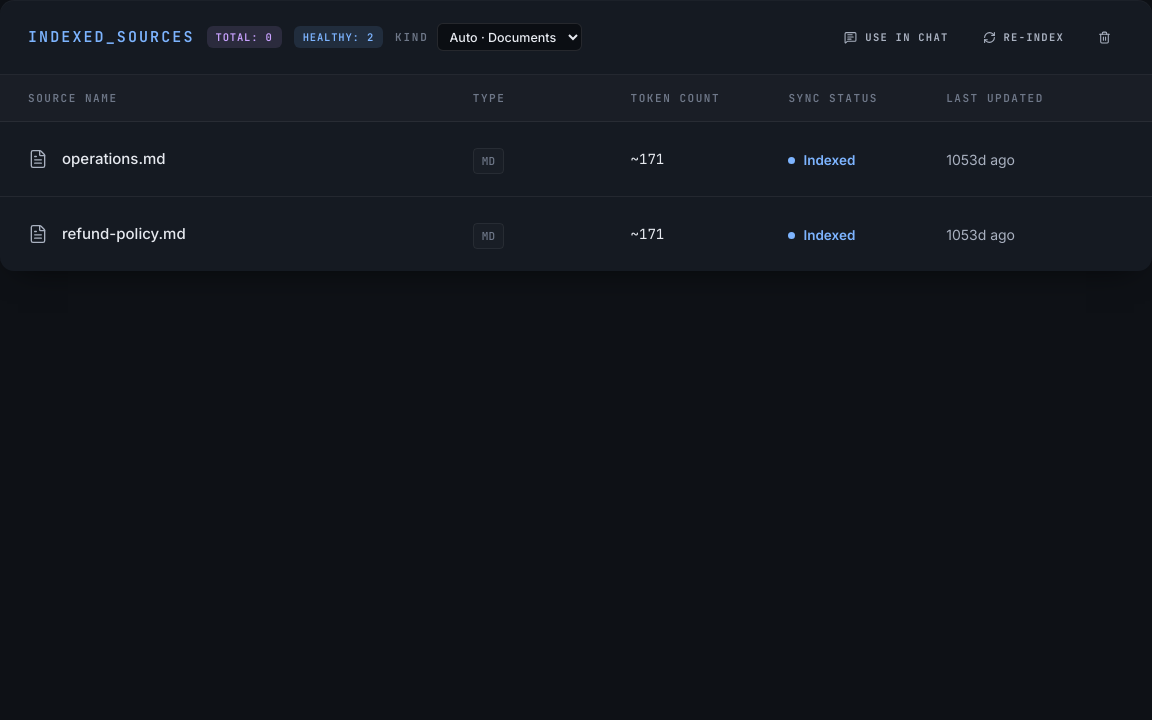
Test: source dialog › shows the content rendered or as numbered text
What coordinates should you click on to do the following:
click the button with aria-label "View operations.md"
I would click on:
 (97, 159)
Its box is [28,148,166,170].
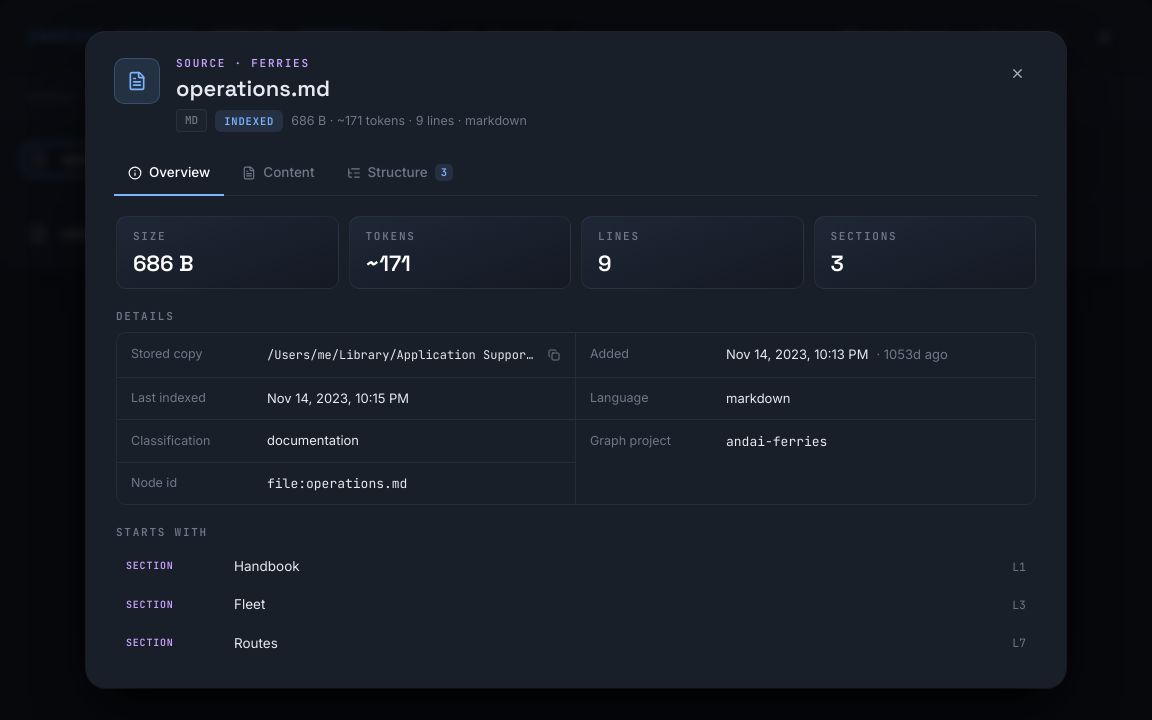
Check: the text "kb/ferries/docs/operations.md" is shown, box [267,347,865,363]
What coordinates should you click on to do the following:
click the tab "Content"
I would click on:
 (278, 174)
Its box is [228,152,329,196].
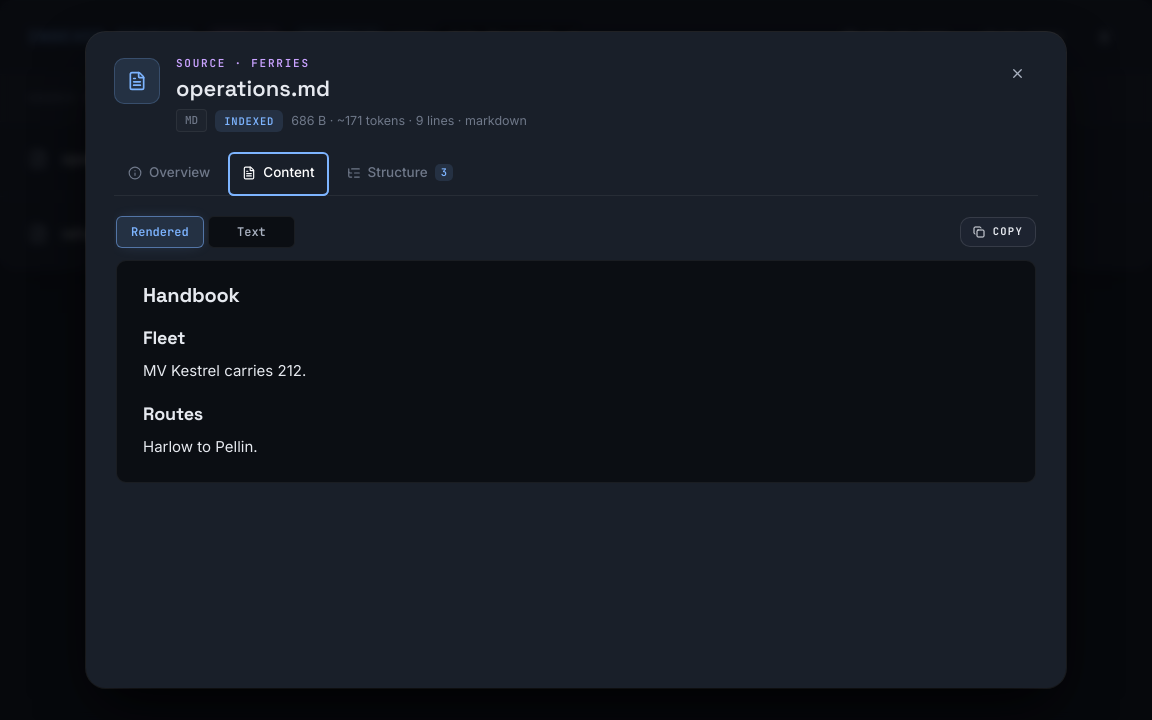
Check: the heading "Fleet" is shown, box [143,326,185,349]
What coordinates should you click on to do the following:
click the button "Text"
I would click on:
 (251, 232)
Its box is [208,216,295,248].
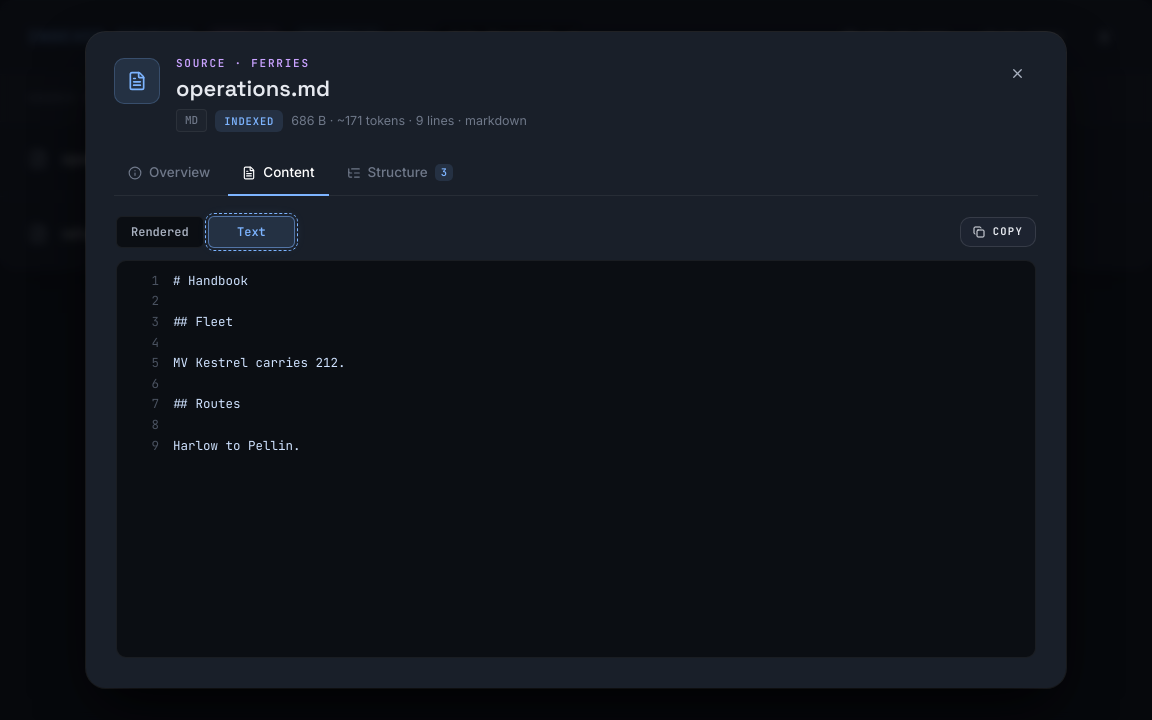
Check: the element named "File text with line numbers" shows "MV Kestrel carries 212.", box [173,354,346,371]
